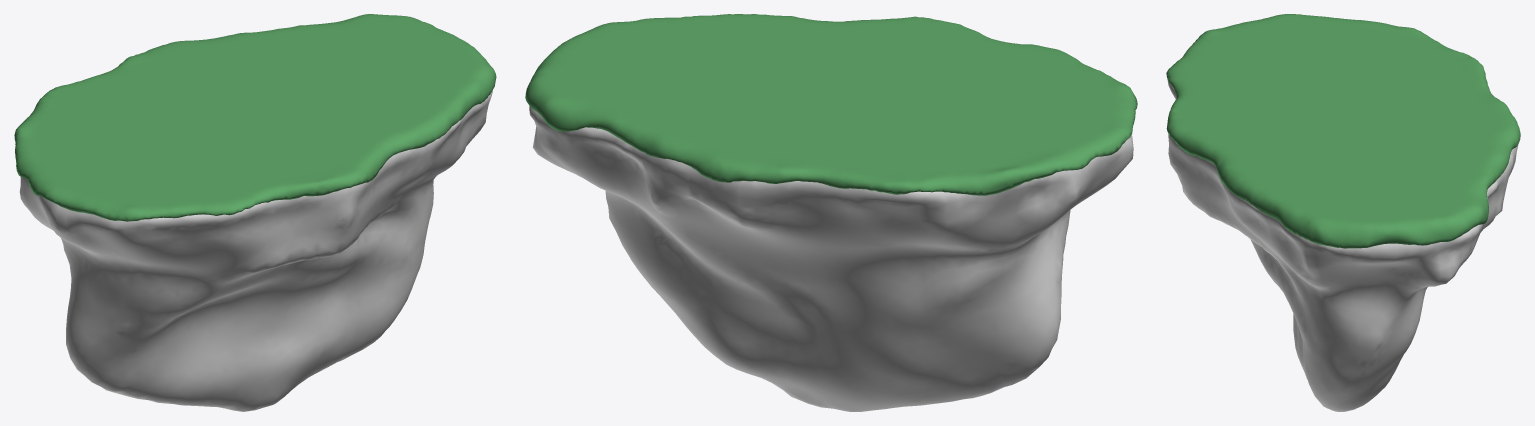
File: IslandsLong2Flat.fbx
3 views of the same model, side by side, from view 1: azimuth 30°, elevation 25°; view 2: azimuth 150°, elevation 25°; view 3: azimuth 270°, elevation 25° (orthographic). The views are drawn at different scales.
Visible parts, largest first — view 1: IslandLong1TopFlat.001, IslandLong1BottomFlat.001; view 2: IslandLong1BottomFlat.001, IslandLong1TopFlat.001; view 3: IslandLong1TopFlat.001, IslandLong1BottomFlat.001.
Part boxes in pixels (x1,y1,x2,y2): IslandLong1TopFlat.001: (14,14,496,221); IslandLong1BottomFlat.001: (19,91,492,411); IslandLong1BottomFlat.001: (529,106,1133,411); IslandLong1TopFlat.001: (525,14,1137,195); IslandLong1TopFlat.001: (1166,14,1520,248); IslandLong1BottomFlat.001: (1167,79,1518,411).
Size of the model in its own units: 3348 by 1967 by 2291.
